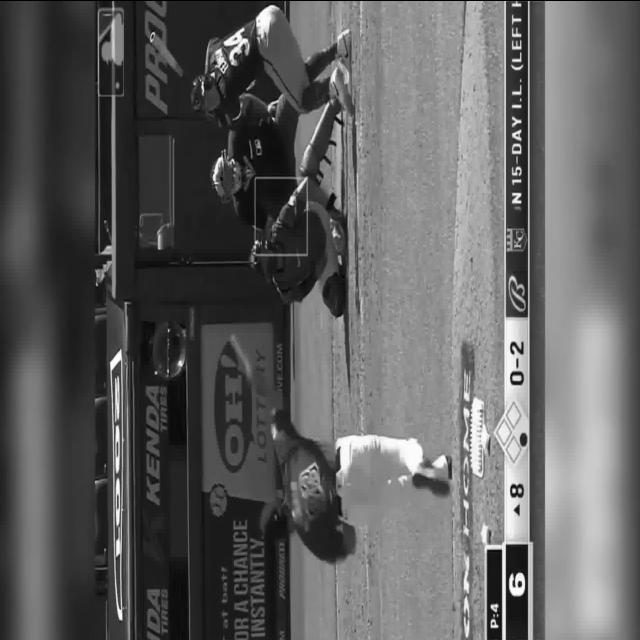baseball_glove: (330, 218, 348, 260)
bat: (149, 31, 194, 88)
shoe: (412, 453, 451, 496), (330, 64, 355, 115), (336, 27, 351, 71)
